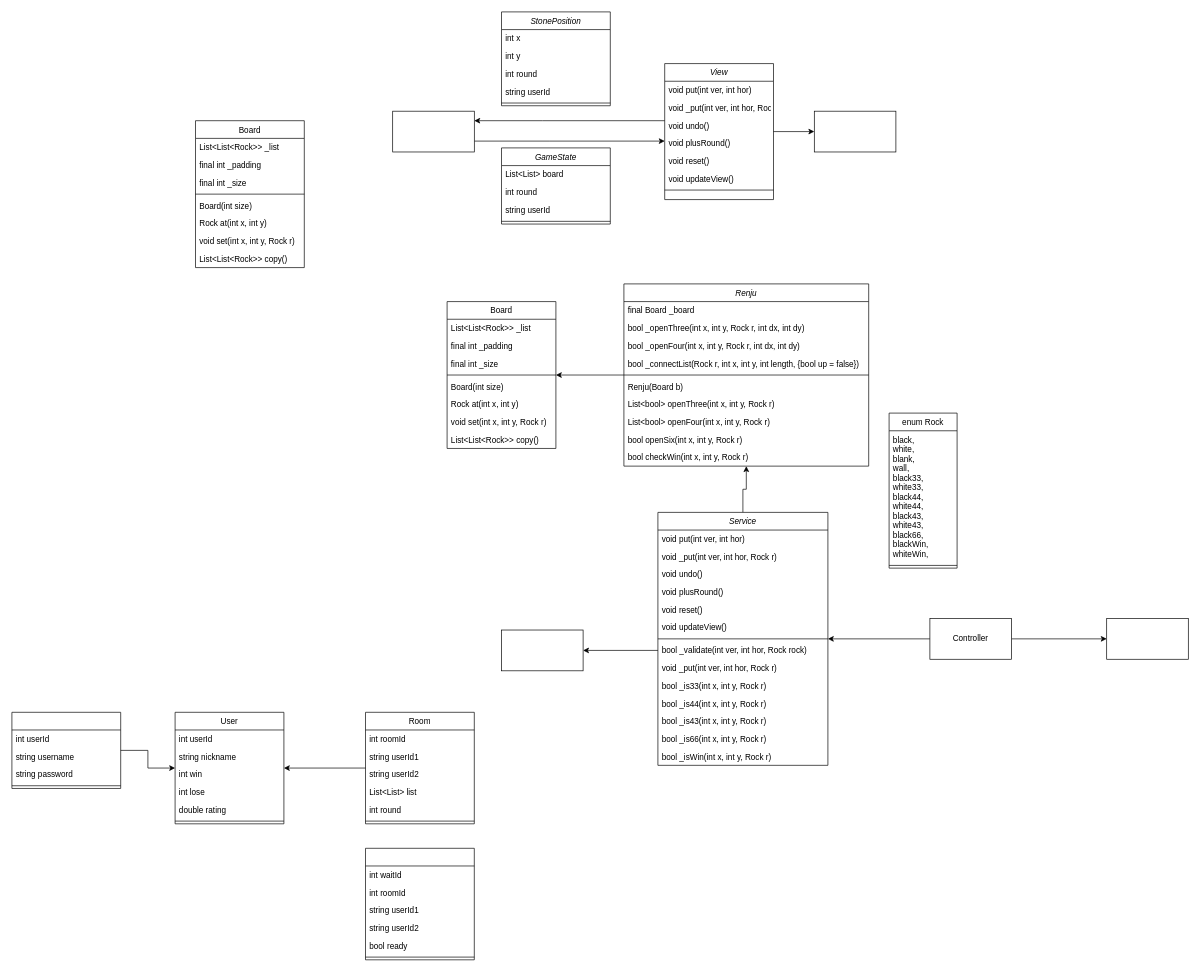
Image size: 1200x972. Some labels were removed from this diagram. Here are the shapes that lost their labels. From the top down, the box of each, then its label:
(392, 111, 474, 152): server
(814, 111, 896, 152): DOM
(501, 629, 583, 671): Repository
(1106, 618, 1188, 659): Client
(11, 712, 121, 788): Authentication
(365, 848, 474, 960): Waiting
